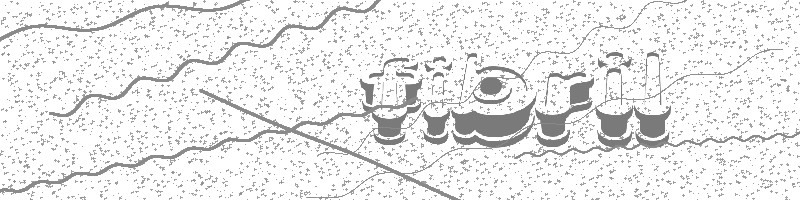b: (451, 49, 537, 150)
f: (357, 52, 423, 148)
i: (595, 49, 635, 148), (423, 50, 451, 146)
l: (634, 48, 672, 150)
r: (535, 68, 592, 149)
